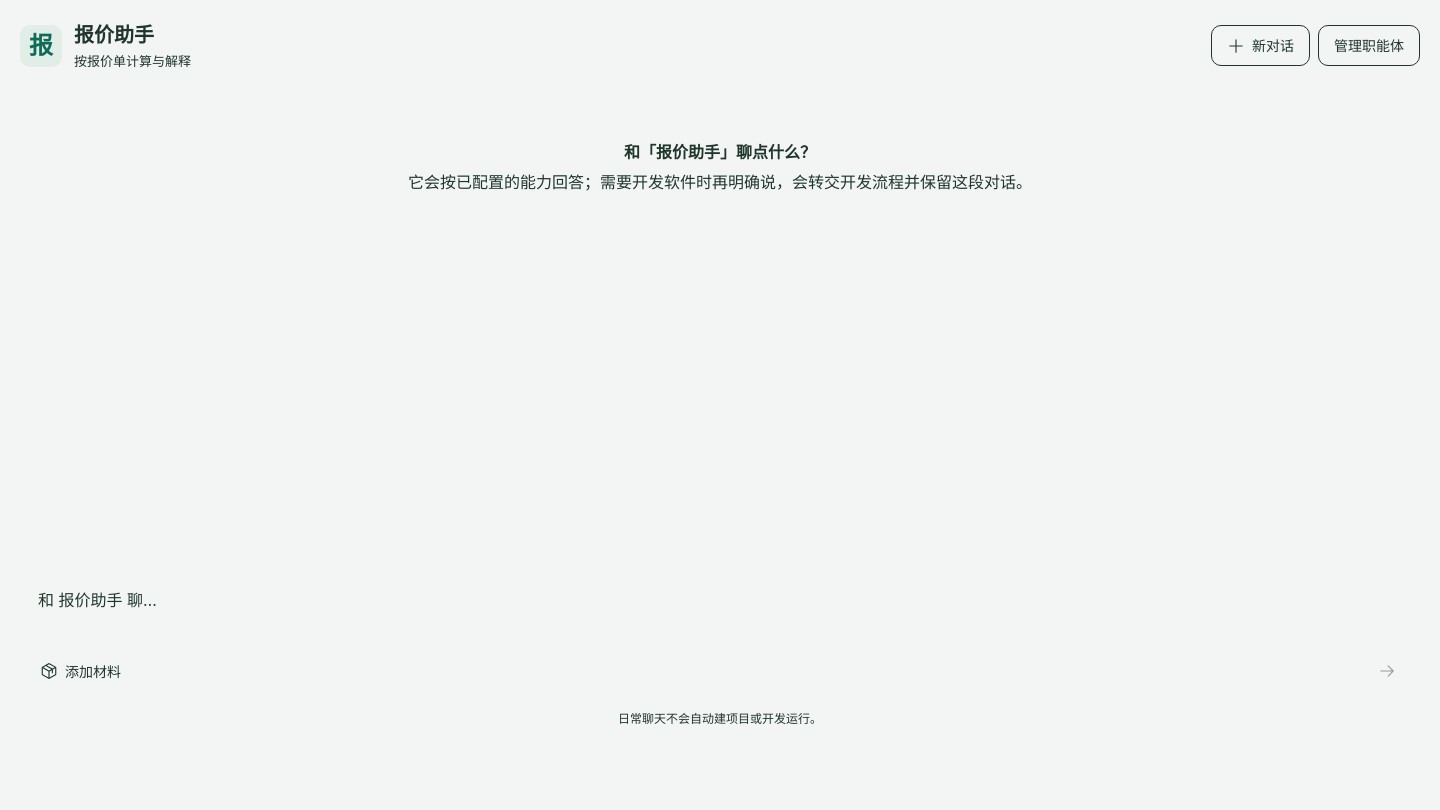
Test: opens a no-project do conversation and sends a message without creating a project or run
This screenshot has width=1440, height=810.
Expected: the heading "报价助手" is shown, left=74, top=23, right=154, bottom=47
Type "这单报价多少" into the text box named "消息" at x=719, y=607, box left=24, top=574, right=1414, bottom=640
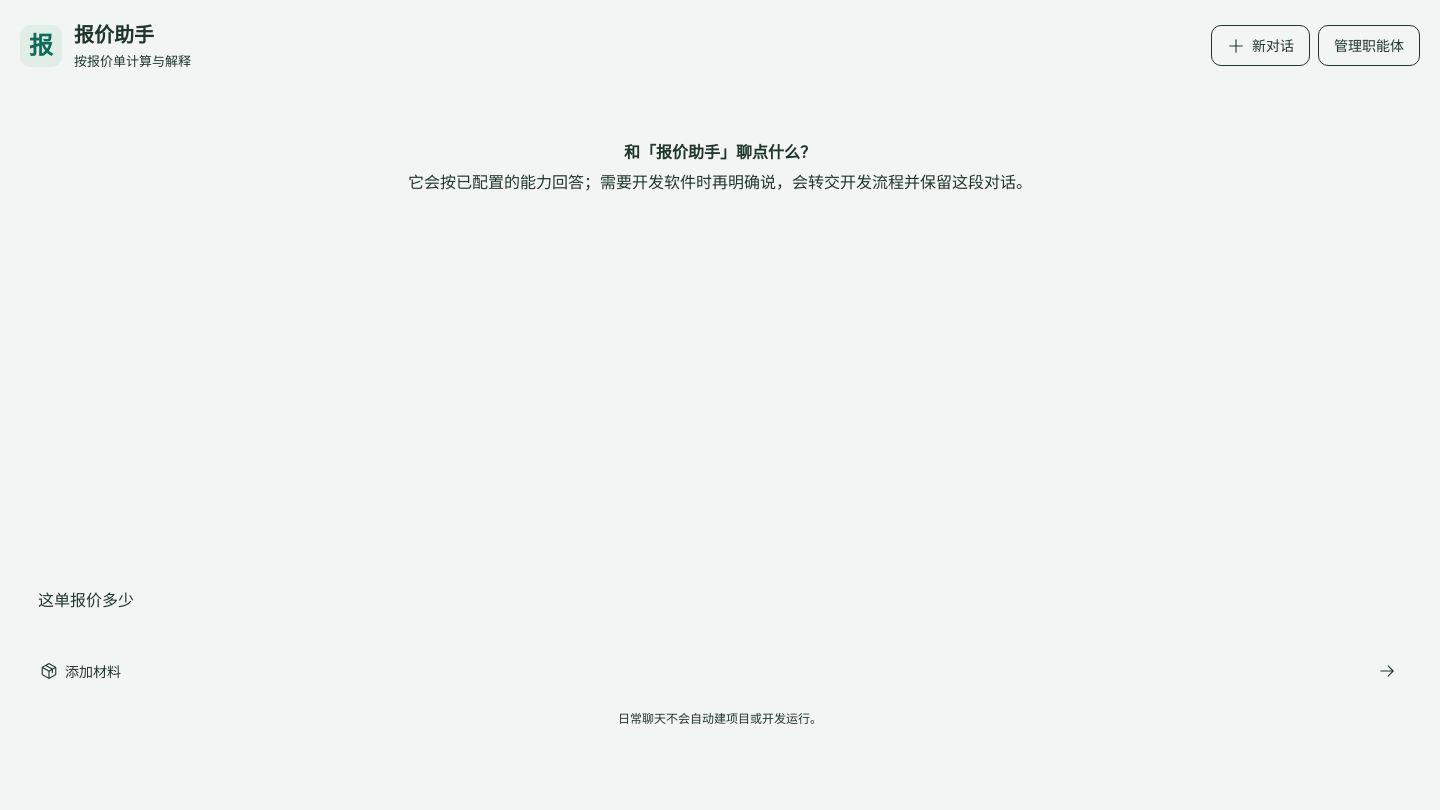
Click the button named "发送" at x=1387, y=671, box left=1366, top=650, right=1408, bottom=692
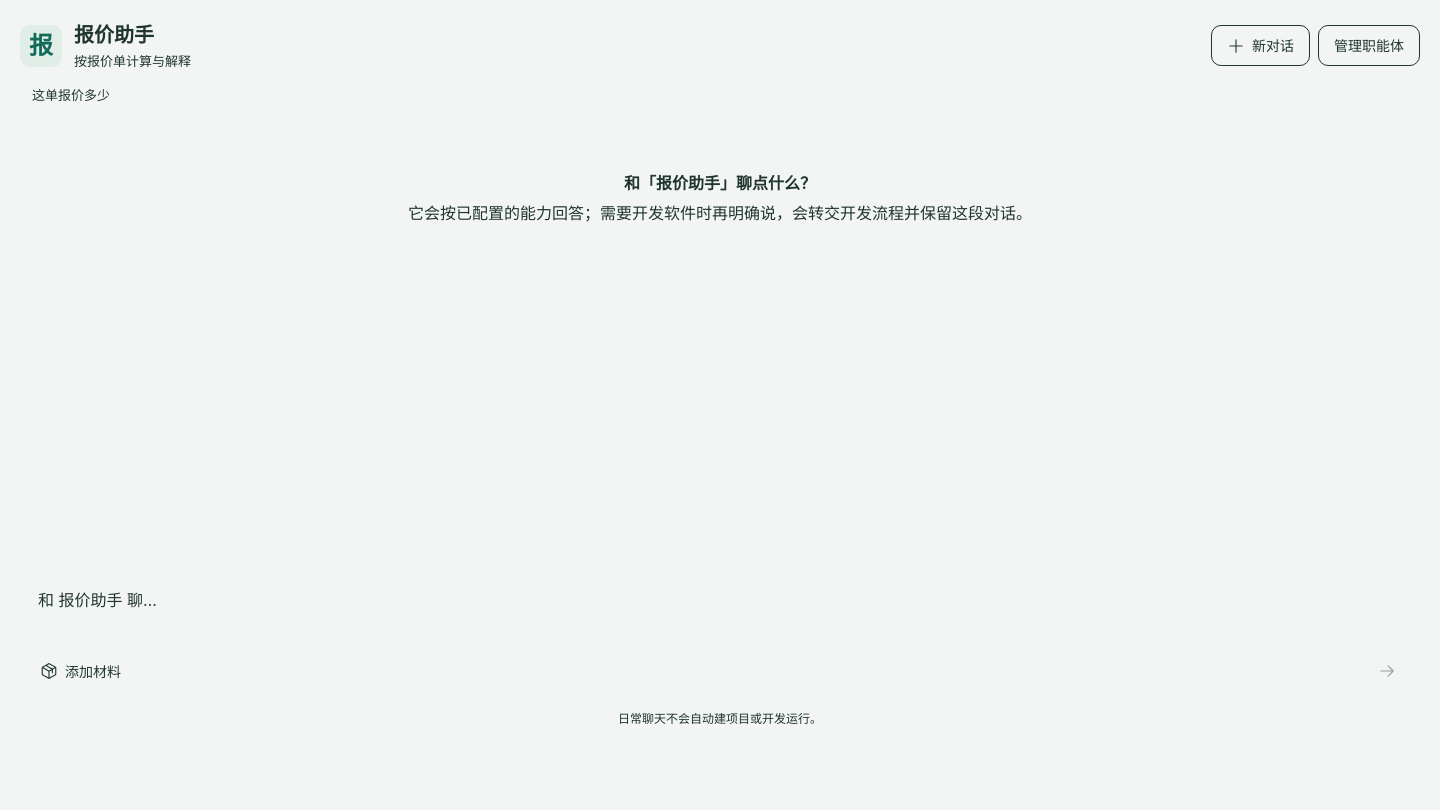
Expected: the button "这单报价多少" is shown, left=20, top=80, right=122, bottom=111
